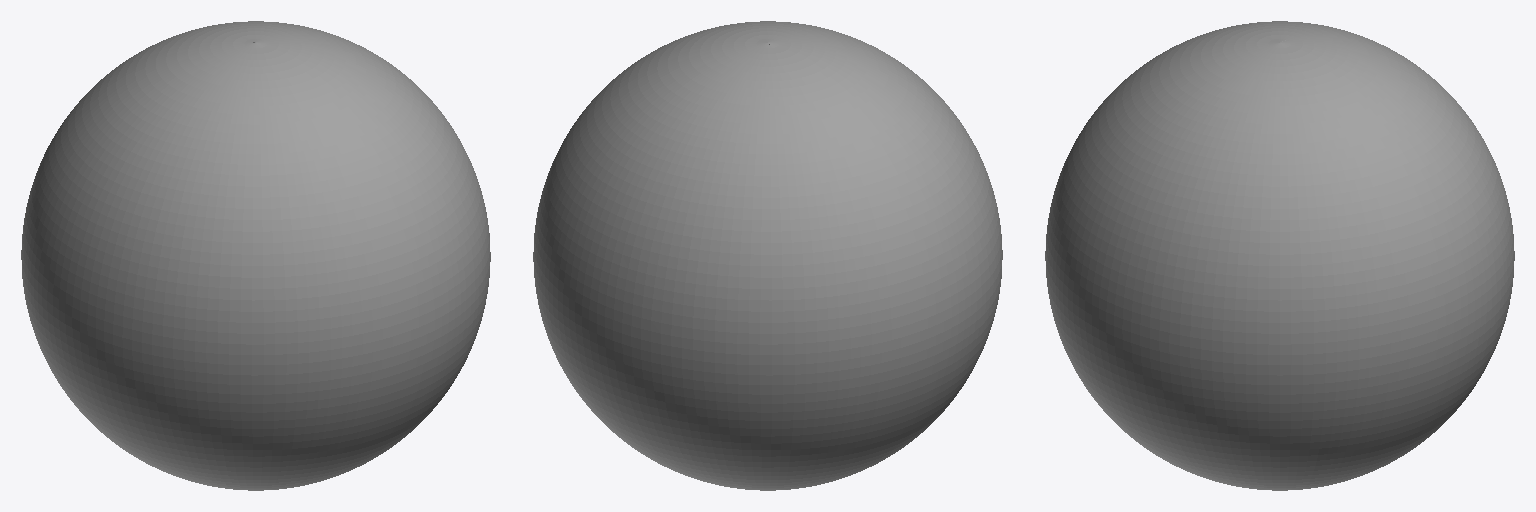
File: earth.obj
The picture shows the model from 3 angles: view 1: azimuth 30°, elevation 25°; view 2: azimuth 150°, elevation 25°; view 3: azimuth 270°, elevation 25°; orthographic projection.
Parts seen in each view (by area): view 1: Sphere; view 2: Sphere; view 3: Sphere.
Part boxes in pixels (x1,y1,x2,y2): Sphere: (21, 21, 490, 490); Sphere: (533, 21, 1002, 490); Sphere: (1045, 21, 1514, 490).
Size of the model in its own units: 2 by 2.01 by 2.